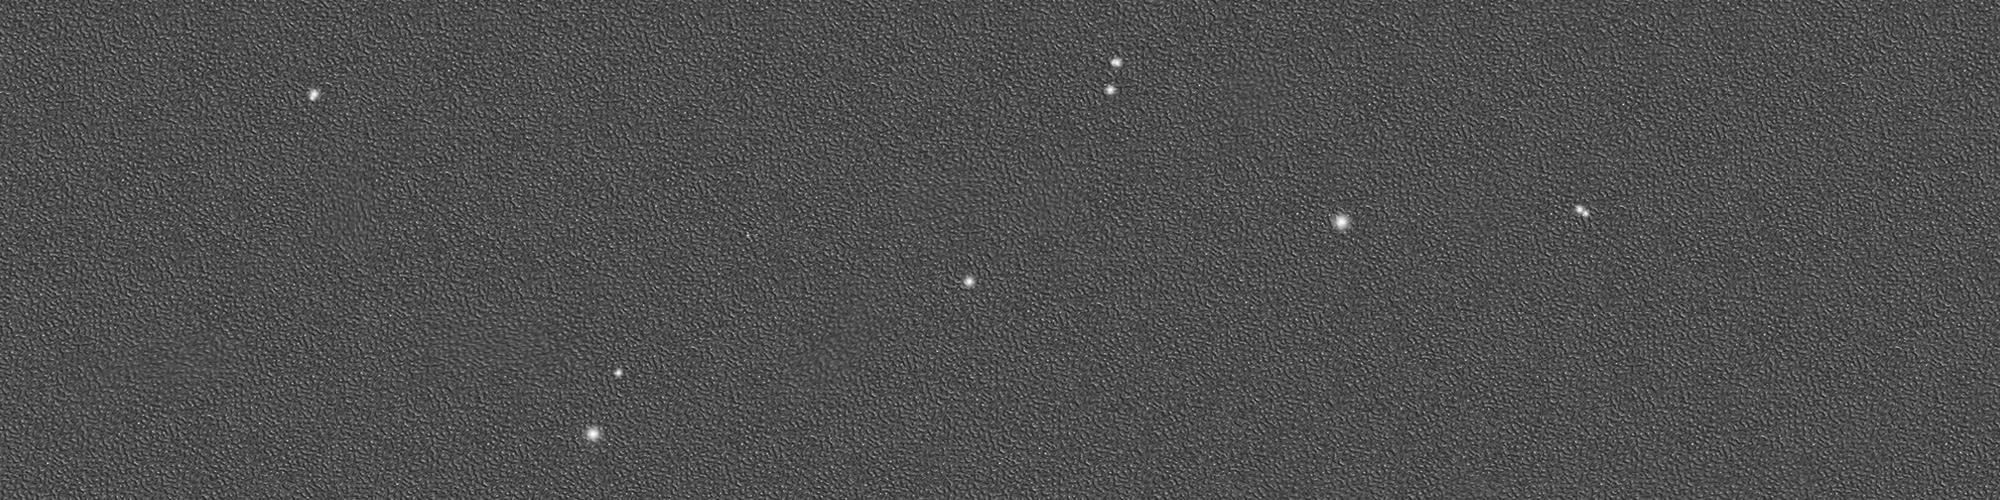Particles: (1328, 210, 1355, 235), (582, 420, 605, 445), (305, 85, 324, 107), (1573, 198, 1592, 219), (959, 270, 980, 290), (608, 362, 628, 381), (1099, 80, 1119, 99), (1106, 55, 1125, 69)
